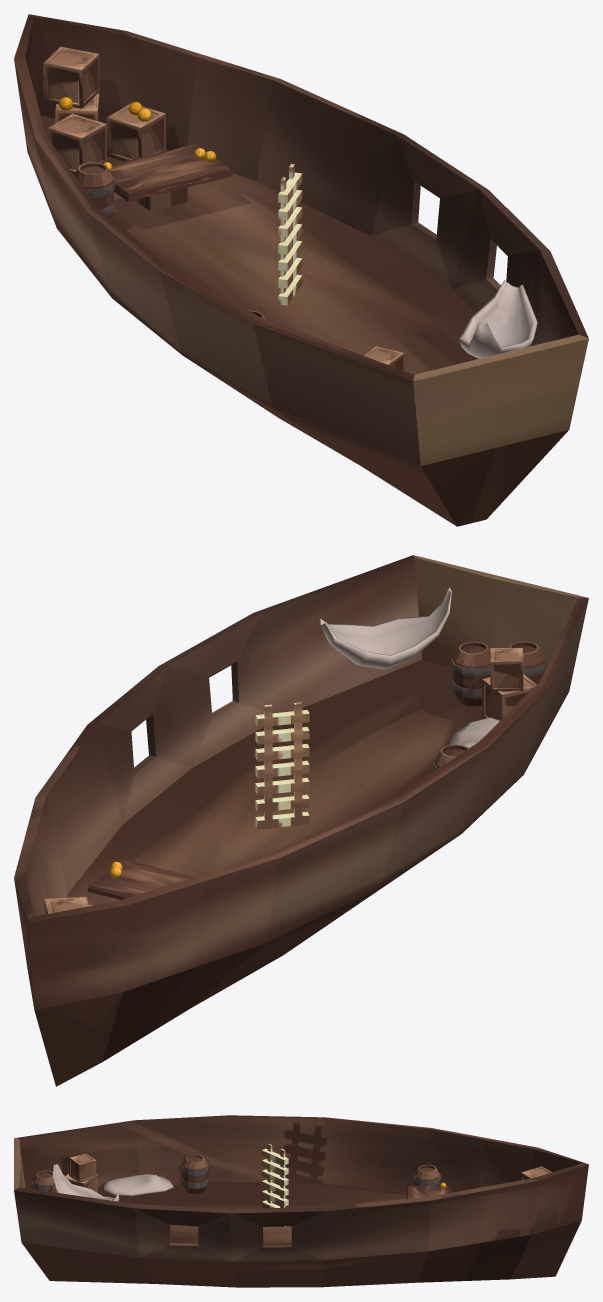
File: Boat_bottom.fbx
3 views of the same model, one above another, from view 1: azimuth 30°, elevation 25°; view 2: azimuth 150°, elevation 25°; view 3: azimuth 270°, elevation 25° (orthographic). The views are drawn at different scales.
Parts seen in each view (by area): view 1: BottomBoatFinal; view 2: BottomBoatFinal; view 3: BottomBoatFinal.
Part boxes in pixels (left/top/right/bottom): BottomBoatFinal: left=14, top=14, right=588, bottom=526; BottomBoatFinal: left=14, top=555, right=588, bottom=1086; BottomBoatFinal: left=14, top=1115, right=588, bottom=1287.
Size of the model in its own units: 410 by 254 by 1017.
